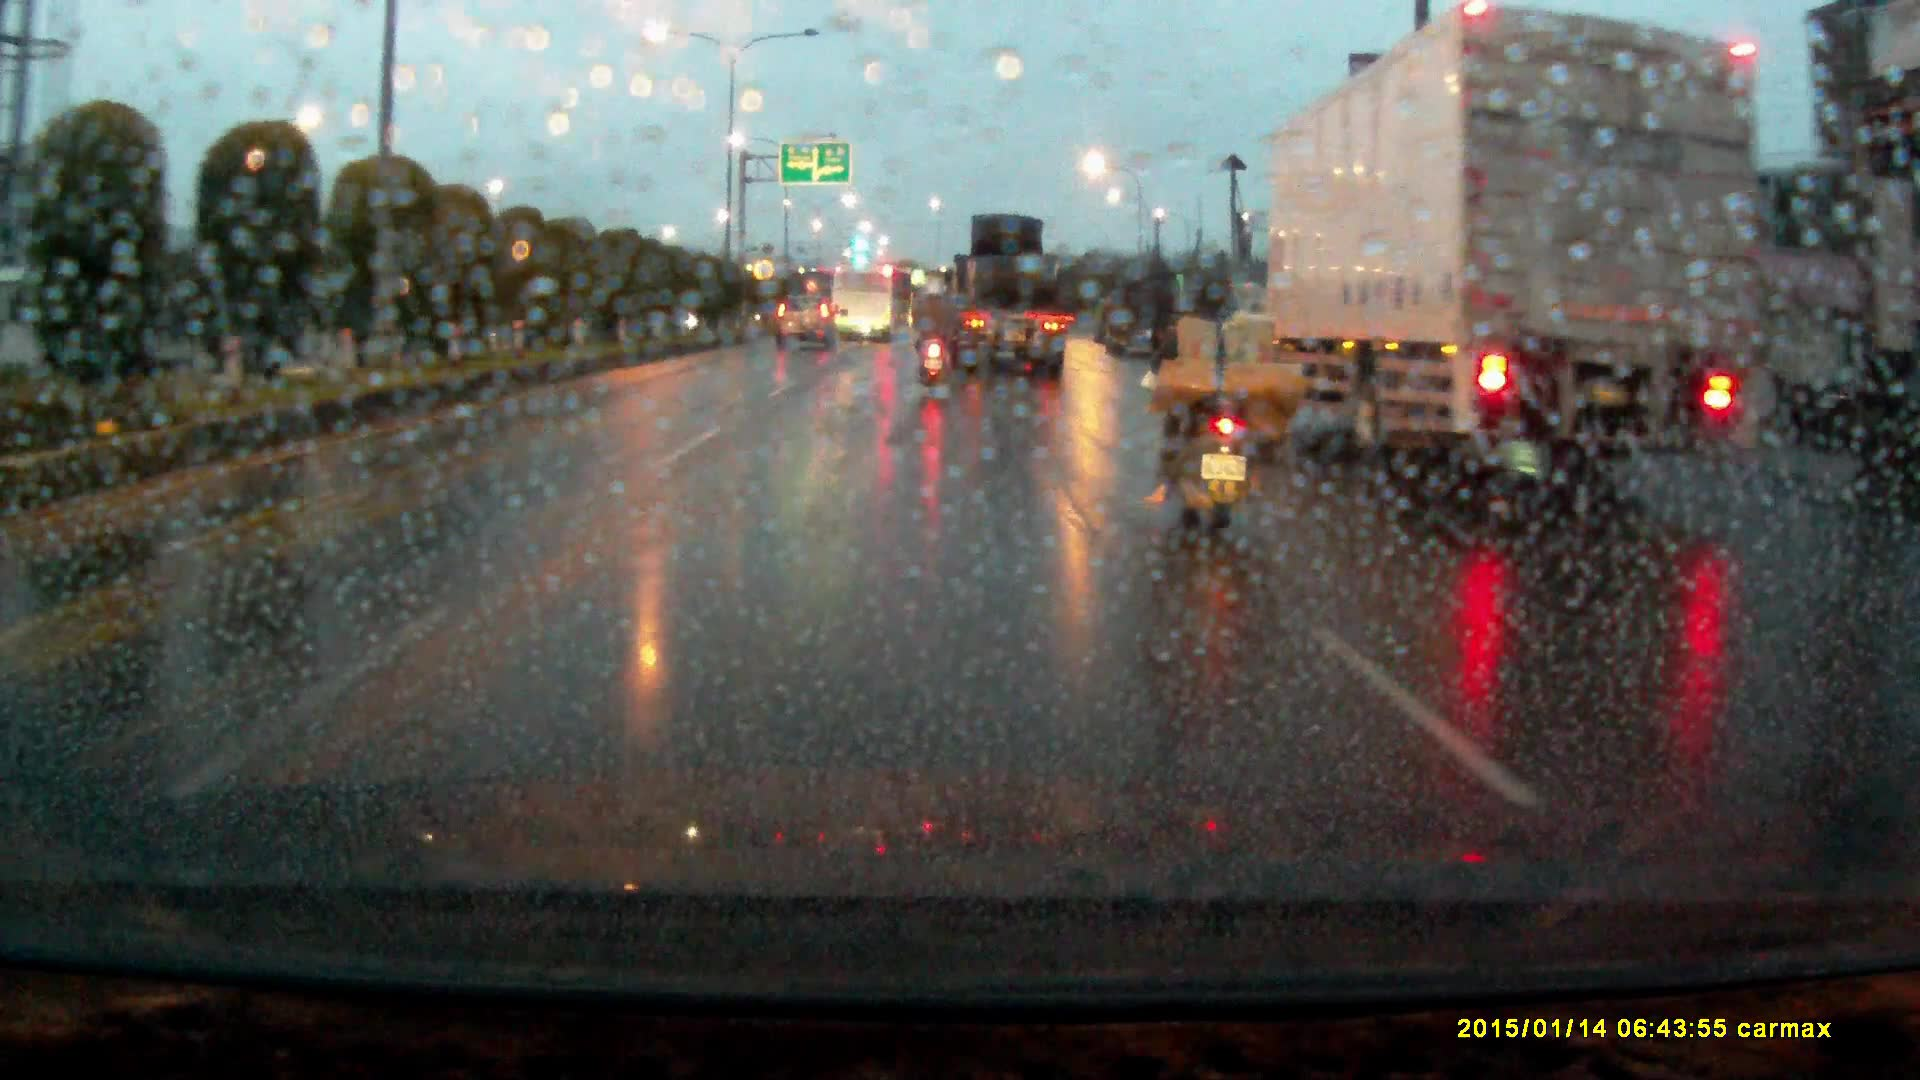rider: (1147, 253, 1313, 554), (913, 288, 955, 389)
vehicle: (1259, 16, 1773, 474), (934, 210, 1066, 373), (832, 266, 895, 341), (775, 284, 838, 345)
